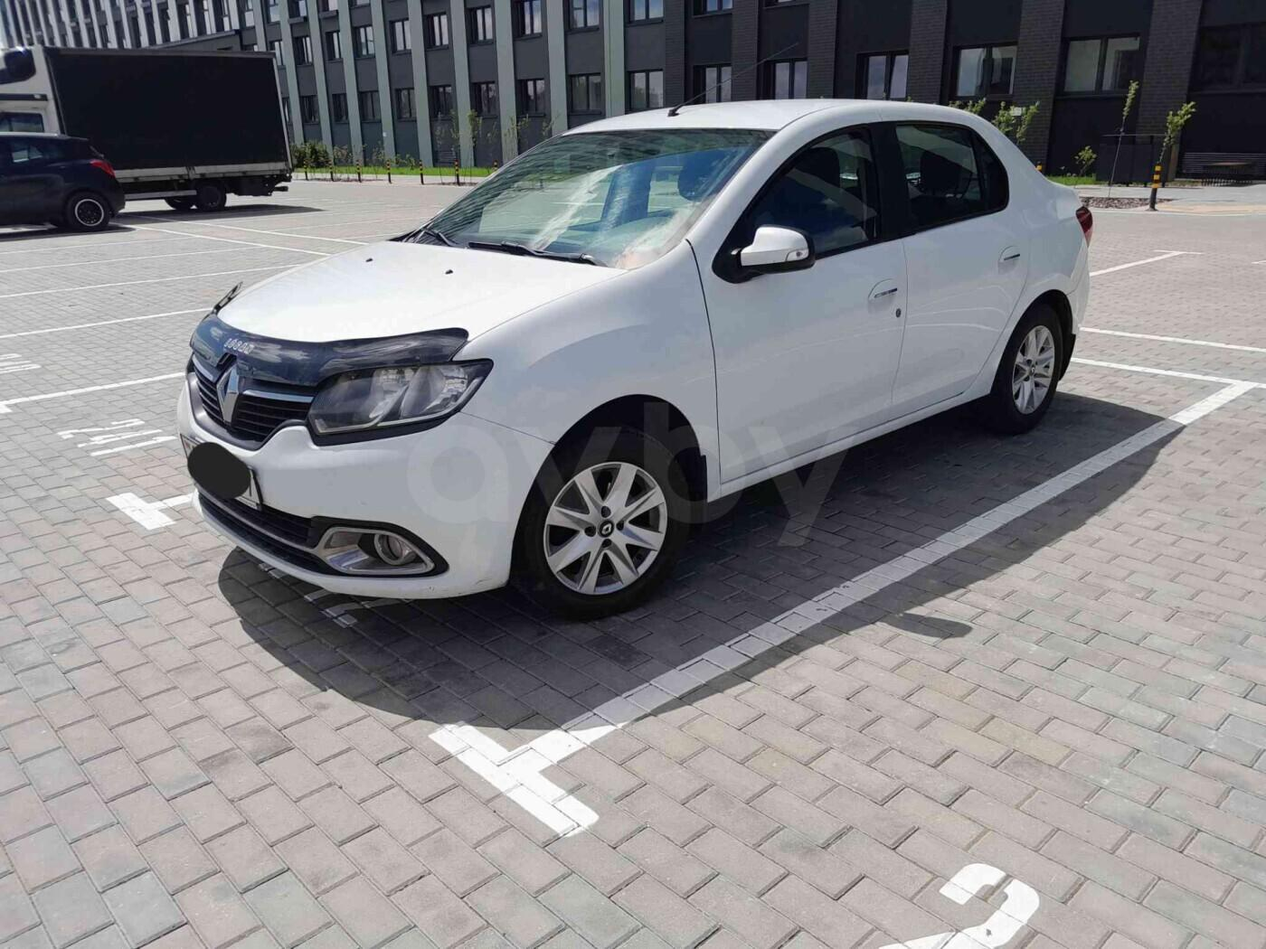Logan_2013-2018: (172, 96, 1092, 643)
